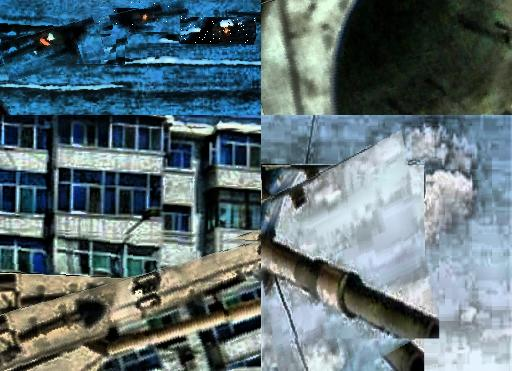tanks: (1, 239, 262, 371), (262, 176, 440, 338), (262, 1, 512, 116), (1, 11, 116, 61), (101, 4, 187, 34), (183, 19, 256, 44)
